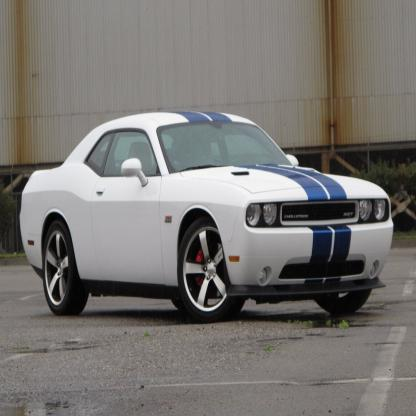Vehicle: (18, 110, 393, 324)
